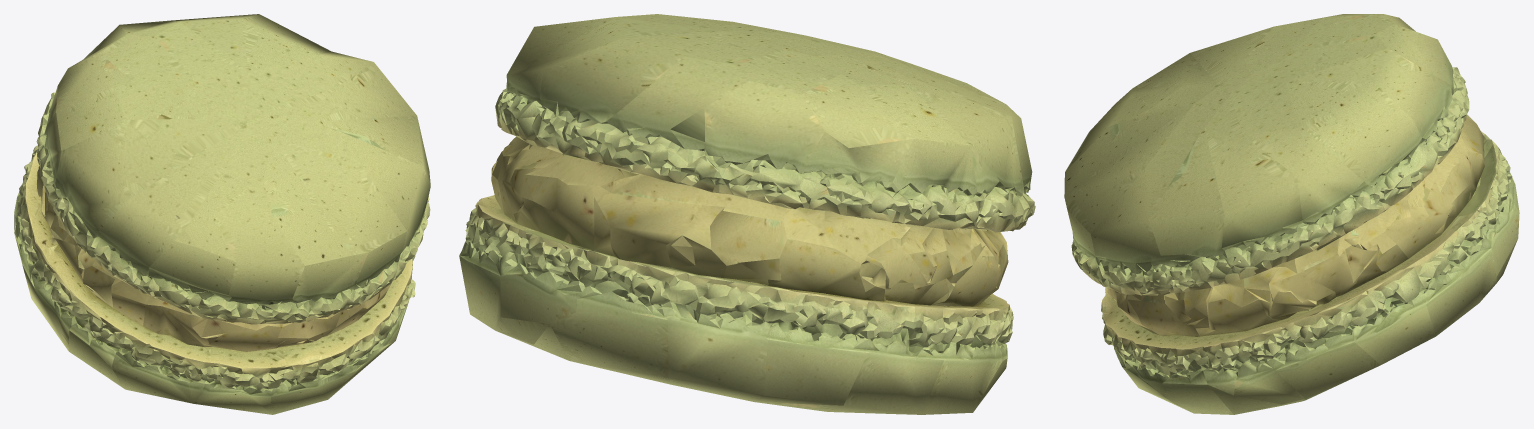
Rendered from macaron2-lo.glb.
3 views of the same model, side by side, from view 1: azimuth 30°, elevation 25°; view 2: azimuth 150°, elevation 25°; view 3: azimuth 270°, elevation 25° (orthographic). The views are drawn at different scales.
Visible parts, largest first — view 1: Mesh_0; view 2: Mesh_0; view 3: Mesh_0.
Boxes of the visible parts, x1,y1,x2,y2 form: Mesh_0: [14, 14, 430, 414]; Mesh_0: [459, 14, 1035, 414]; Mesh_0: [1064, 14, 1519, 414].
Bounding box in the file's own units: 1.79 × 1.49 × 1.87.
1 material, 1 textured.
